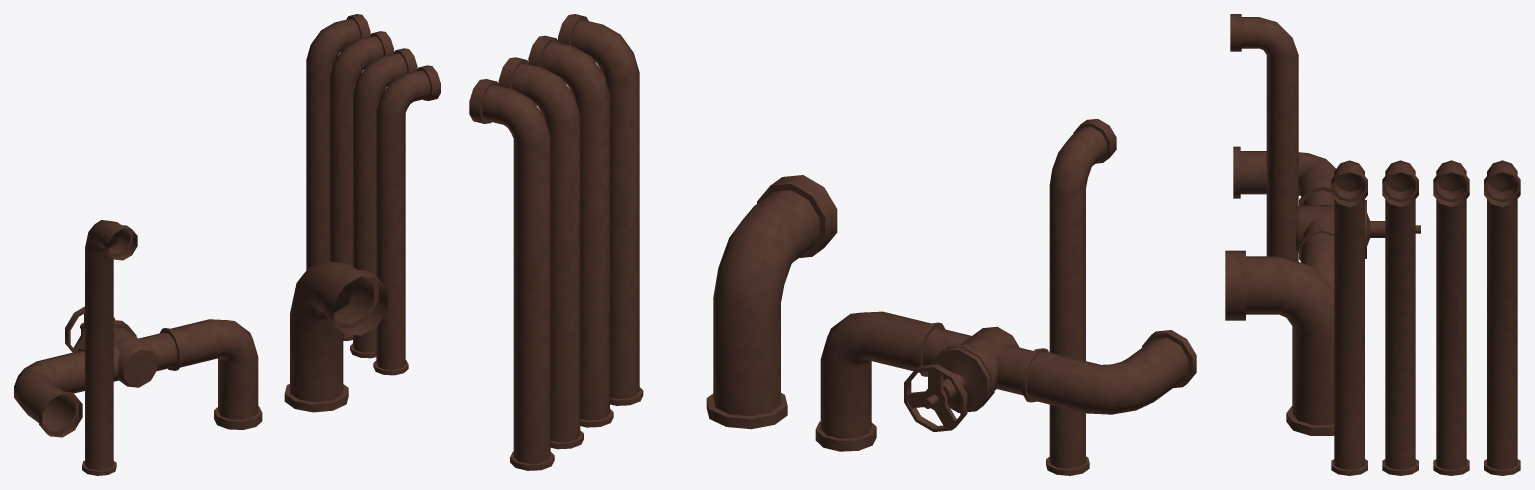
The model's file is Pipes1.fbx.
3 renders of one model, left to right at view 1: azimuth 30°, elevation 25°; view 2: azimuth 150°, elevation 25°; view 3: azimuth 270°, elevation 25°, orthographic. The views are drawn at different scales.
Visible parts, largest first — view 1: Куб.007; view 2: Куб.007; view 3: Куб.007.
Boxes of the visible parts, <box> form: Куб.007: <box>14,14,440,475</box>; Куб.007: <box>469,14,1196,475</box>; Куб.007: <box>1225,14,1520,475</box>.
Bounding box in the file's own units: 985 × 624 × 522.
